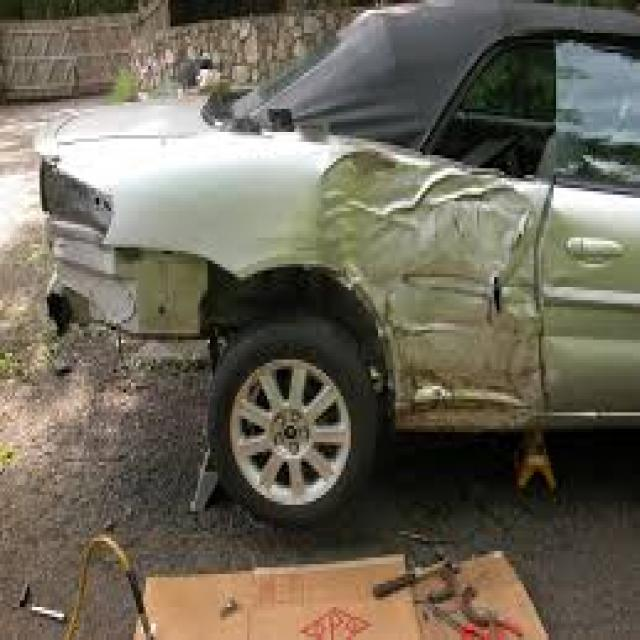severe: (19, 102, 543, 456)
